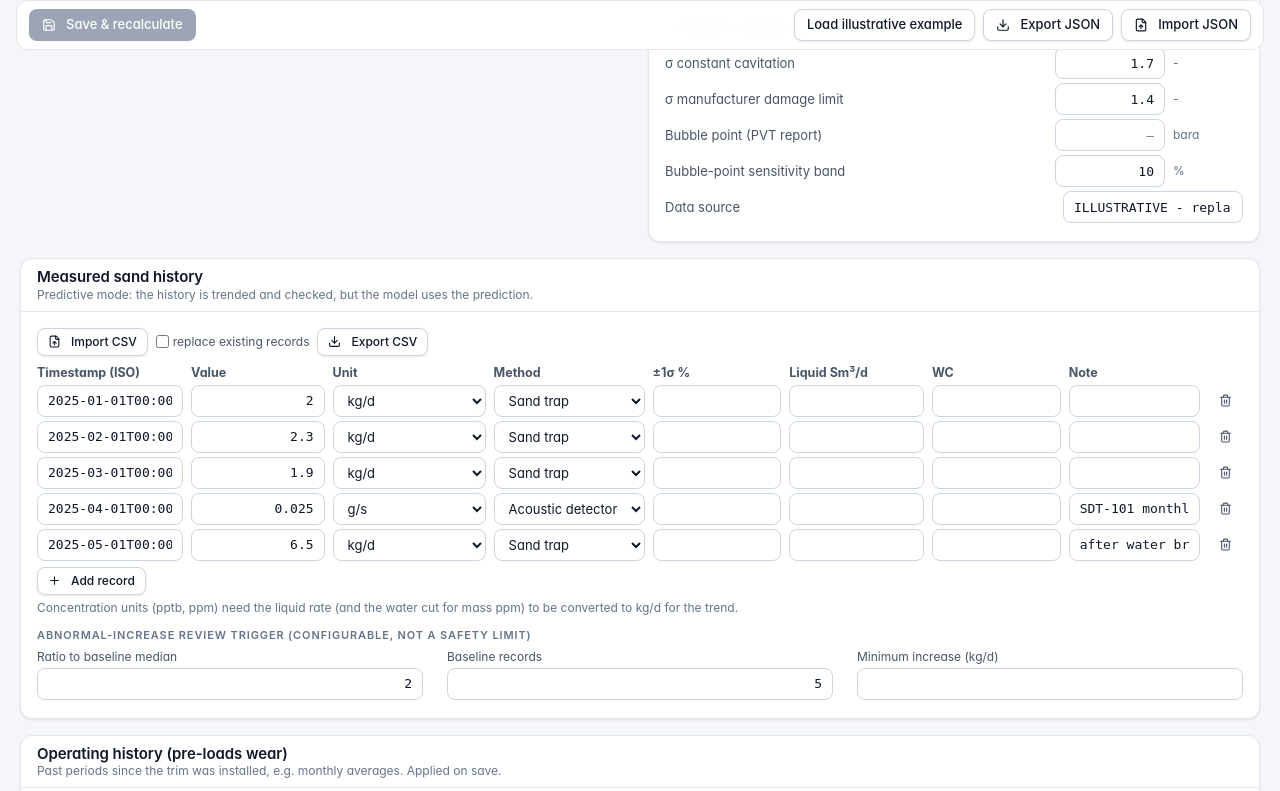
Test case: Measured sand history inputs › imports a CSV file and edits a record in the draft
Earlier steps of the test are not shown.
Later steps or results of the test are not shown.
(page scrolled)
Replace the text in the field named "measurement 1 value" with "2.5" at (258, 400), box [191,384,325,416]
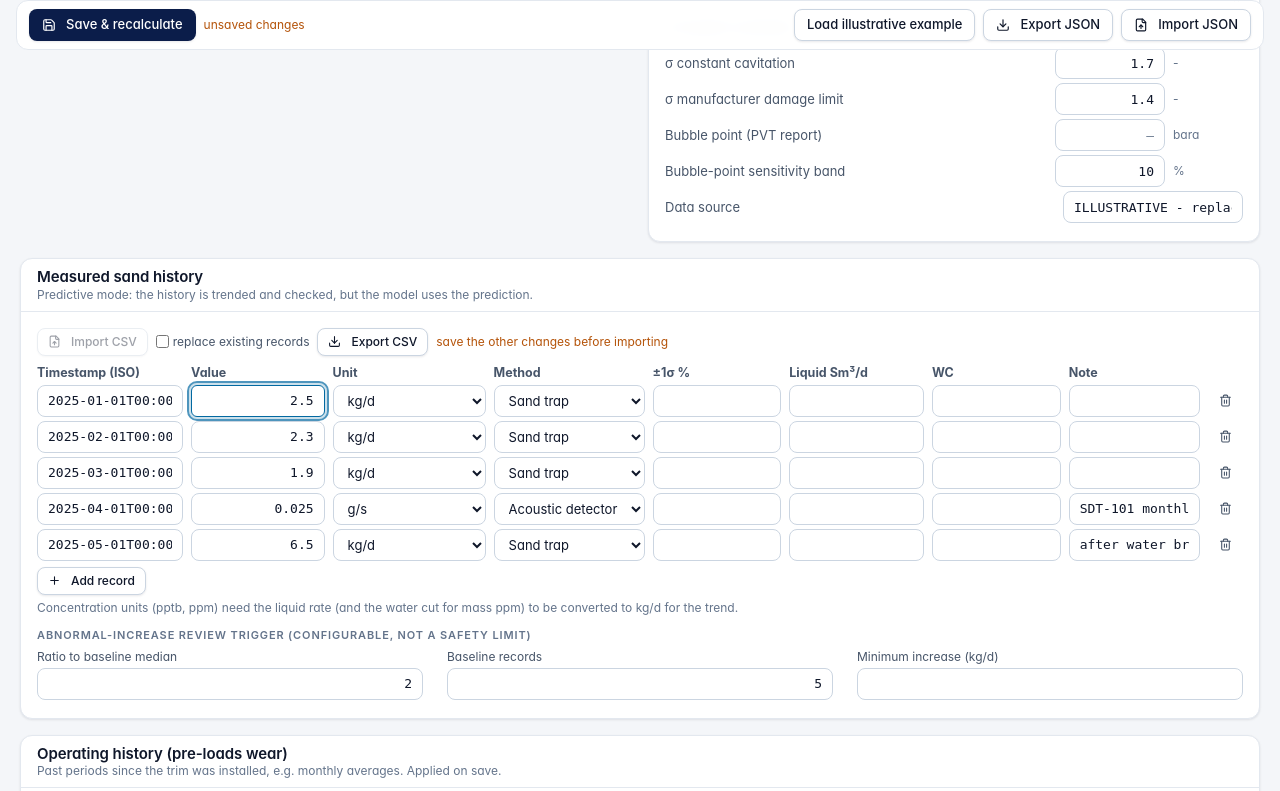
Now the button with test id "sand-csv-import" is disabled, box [37,328,148,356]
Click the button named "remove measurement 2" at (1226, 436), box [1208,422,1243,450]
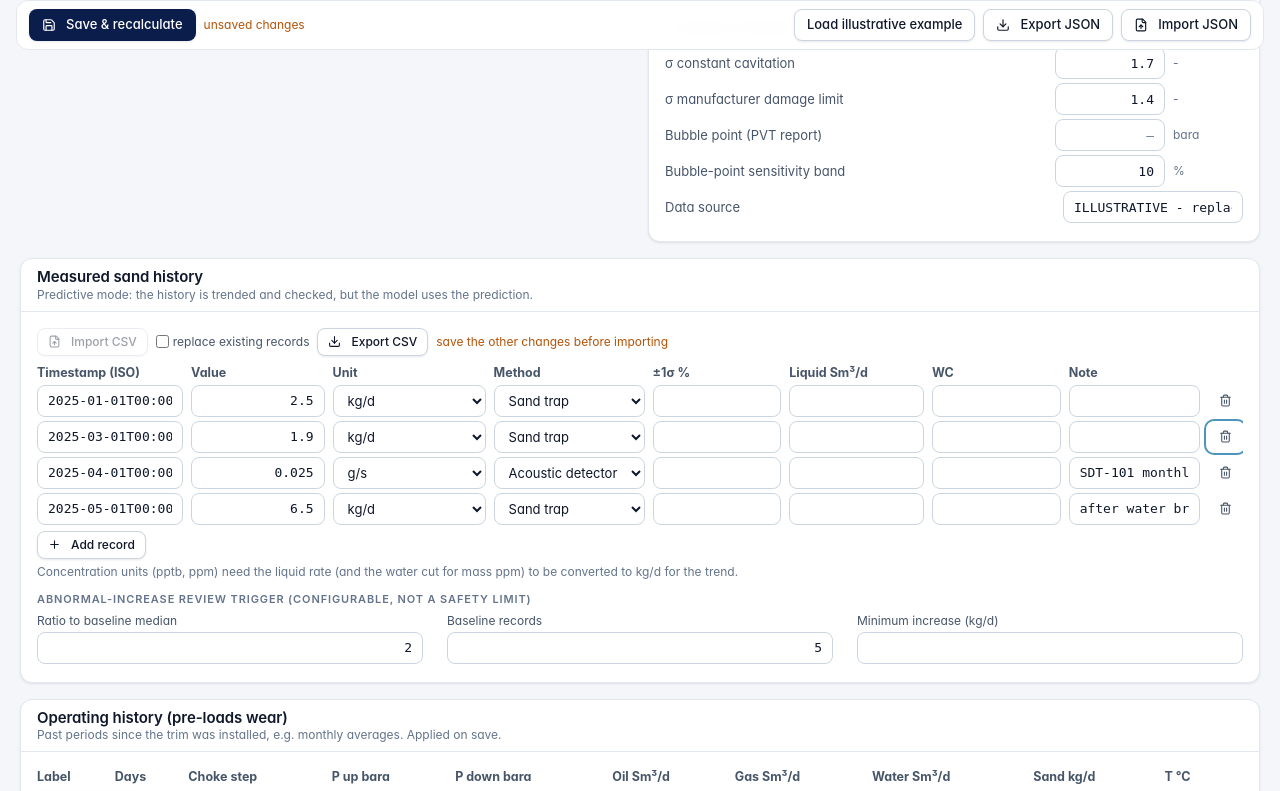
Now the field named "measurement 2 value" holds "1.9", box [191,420,325,452]
